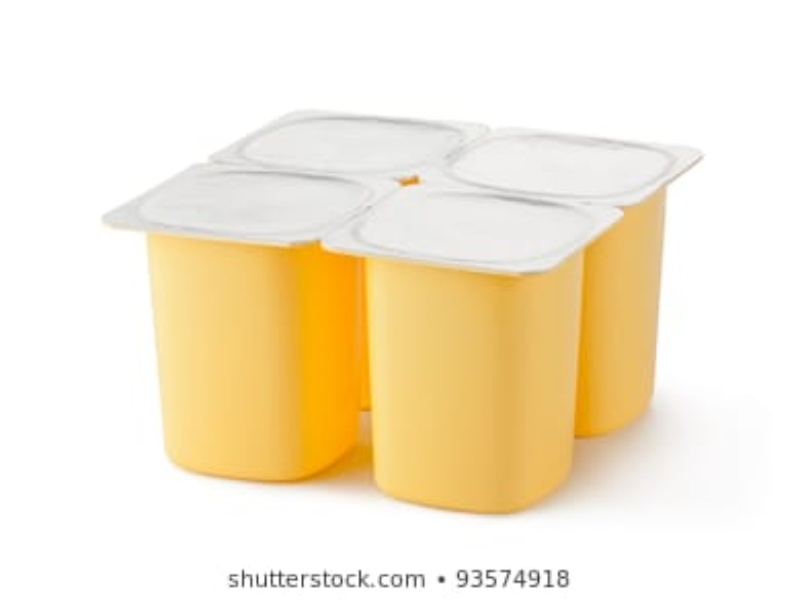yogurt-cup: (314, 180, 626, 509), (101, 158, 385, 486), (439, 126, 695, 439)
